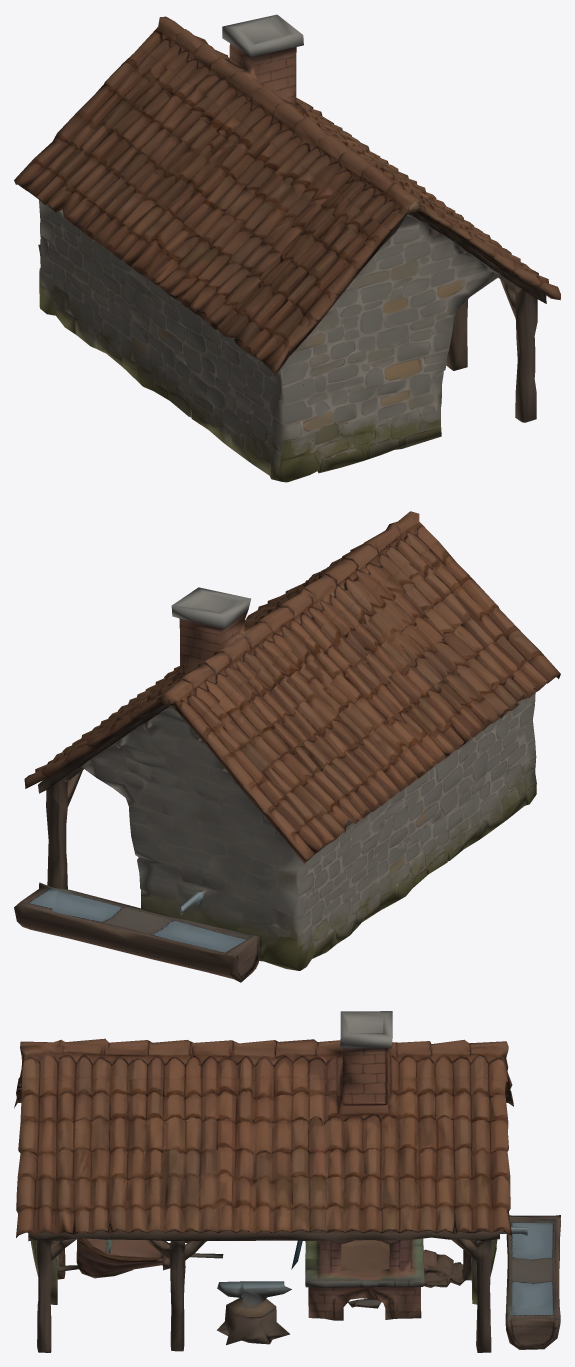
Rendered from b98b88b8-f398-4585-9bc4-0b10b050fd18_model_url.glb.
3 renders of one model, top to bottom at view 1: azimuth 30°, elevation 25°; view 2: azimuth 150°, elevation 25°; view 3: azimuth 270°, elevation 25°, orthographic. The views are drawn at different scales.
Visible parts, largest first — view 1: tripo_node_b98b88b8-f398-4585-9bc4-0b10b050fd18; view 2: tripo_node_b98b88b8-f398-4585-9bc4-0b10b050fd18; view 3: tripo_node_b98b88b8-f398-4585-9bc4-0b10b050fd18.
Part boxes in pixels (left/top/right/bottom): tripo_node_b98b88b8-f398-4585-9bc4-0b10b050fd18: left=14, top=14, right=560, bottom=482; tripo_node_b98b88b8-f398-4585-9bc4-0b10b050fd18: left=14, top=511, right=560, bottom=982; tripo_node_b98b88b8-f398-4585-9bc4-0b10b050fd18: left=14, top=1011, right=560, bottom=1352.
Bounding box in the file's own units: 0.6009 × 0.566 × 1.
Materials: 1 (1 with a texture image).
